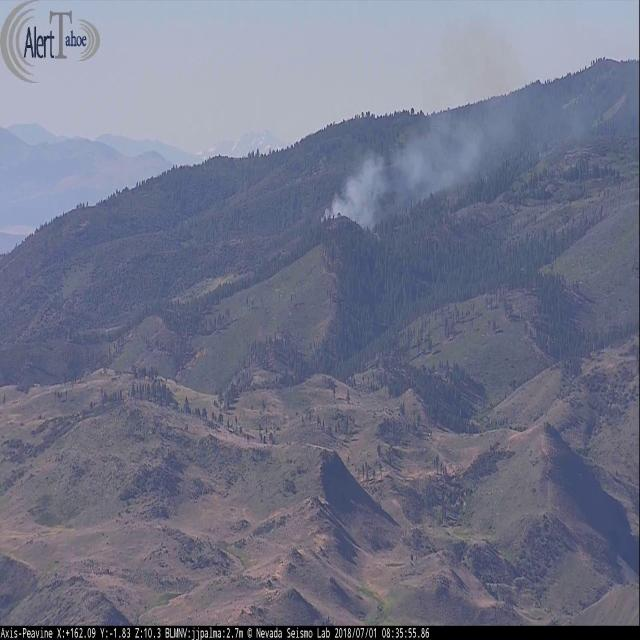smoke: (316, 13, 640, 243)
